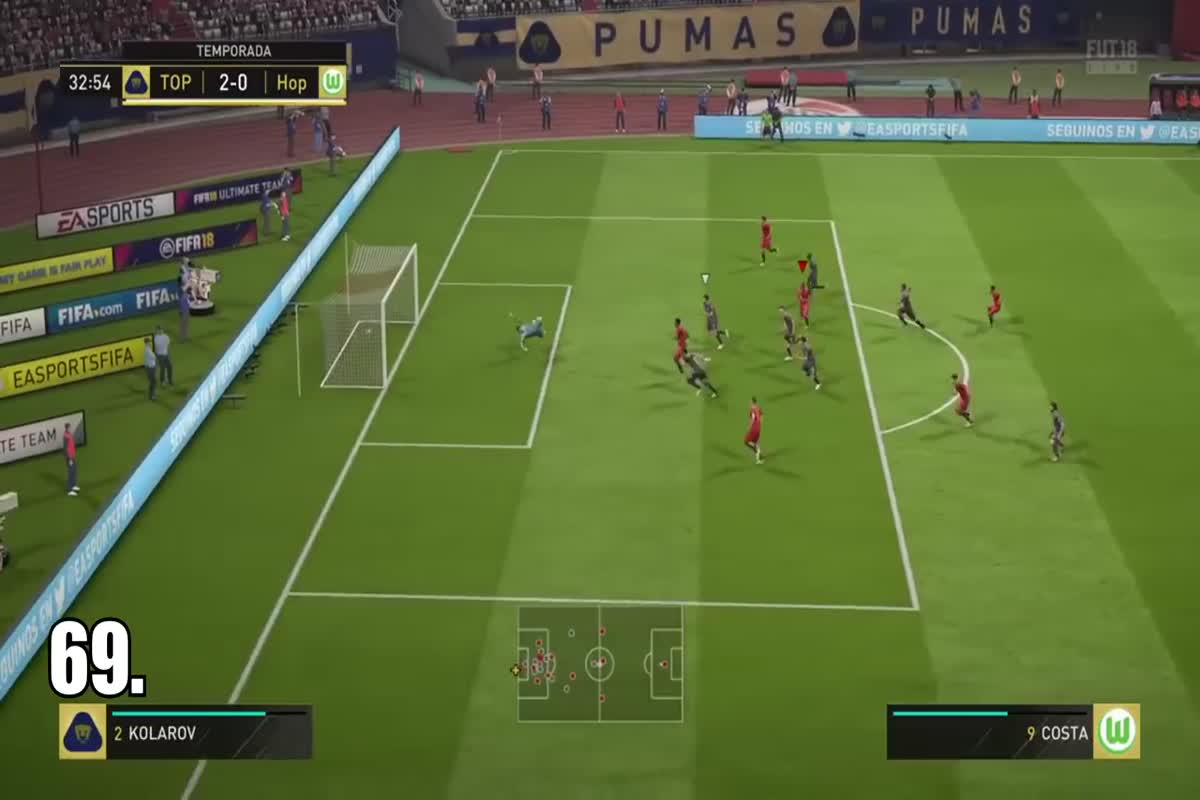ball: (360, 325, 377, 338)
